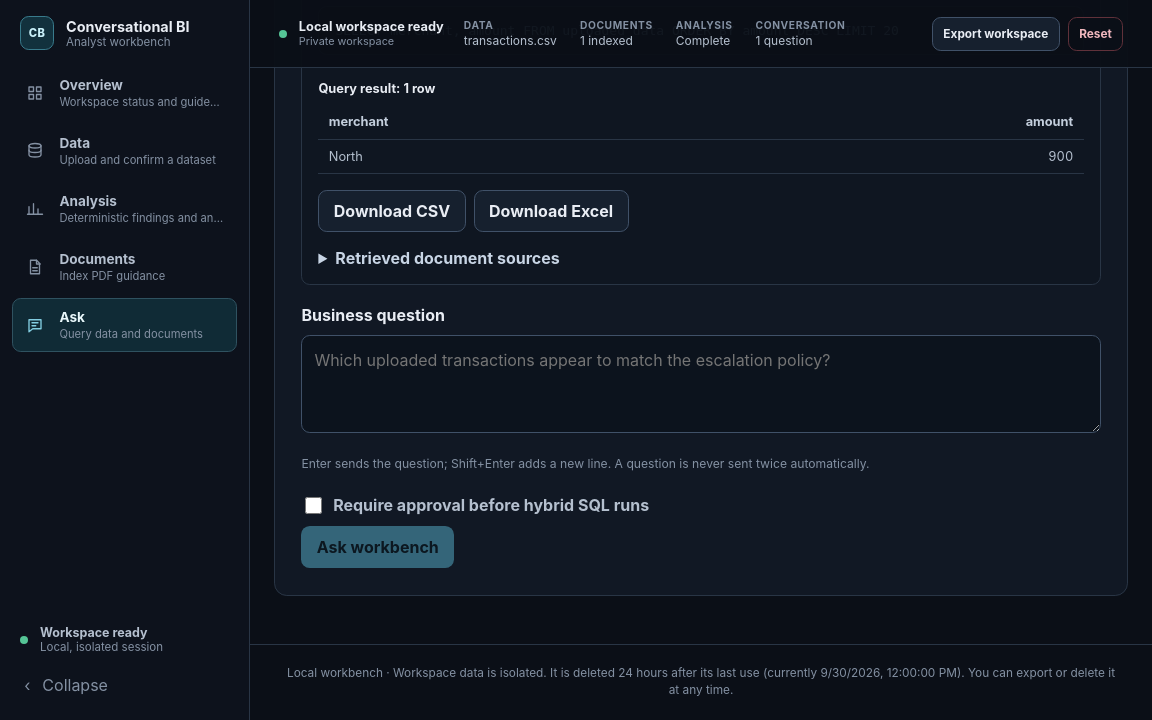
Test: asking a question › after a lost connection with nothing stored, says nothing was saved and restores the question
The width and height of the screenshot is (1152, 720).
(page scrolled)
Type "What is the total revenue?" into the text box labelled "Business question".
click(701, 384); type("What is the total revenue?")  # box [301,335,1101,433]
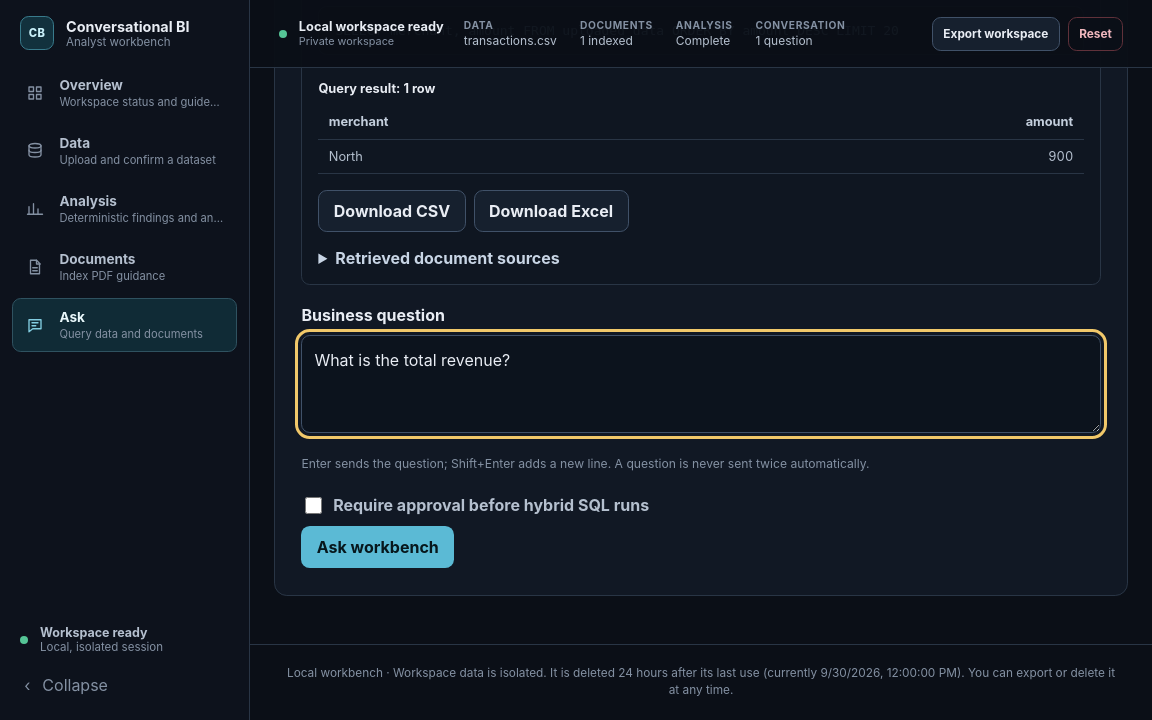
Click the button "Ask workbench".
click(378, 547)  # box [301,526,454,568]
(page scrolled)
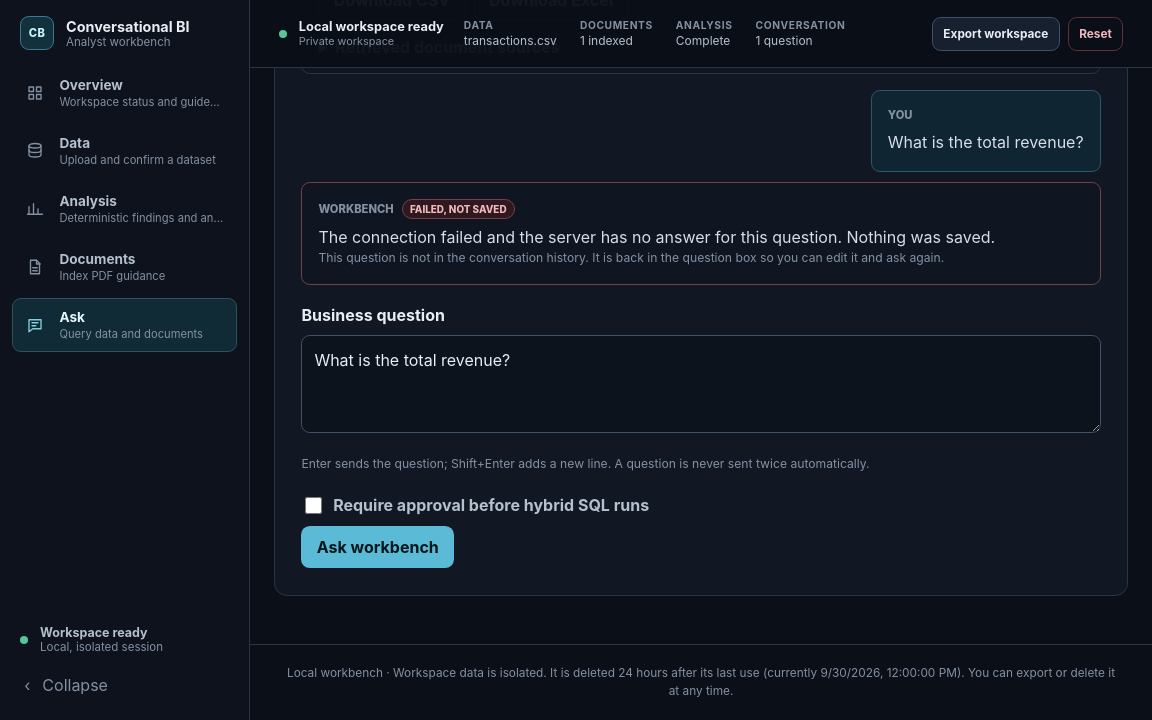
Expected: the text box labelled "Business question" is enabled, [301,335,1101,433]
Expected: the element named "Question failed" shows "the server has no answer for this question", [318,227,995,247]
